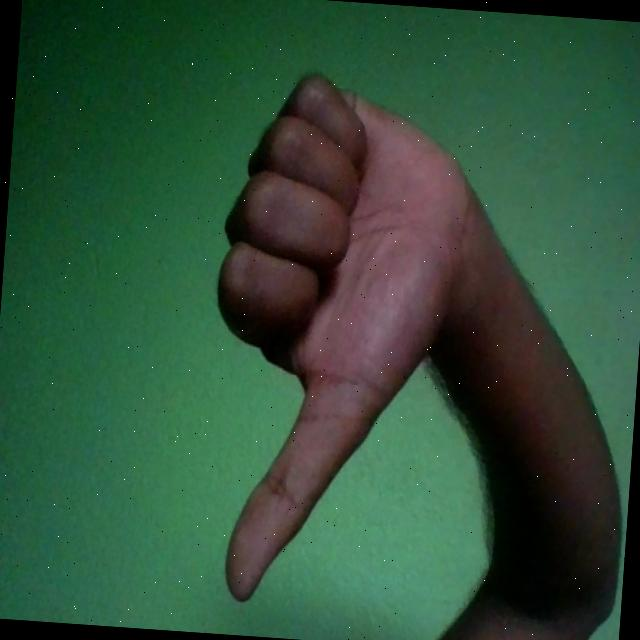Dislike: (194, 63, 480, 614)
